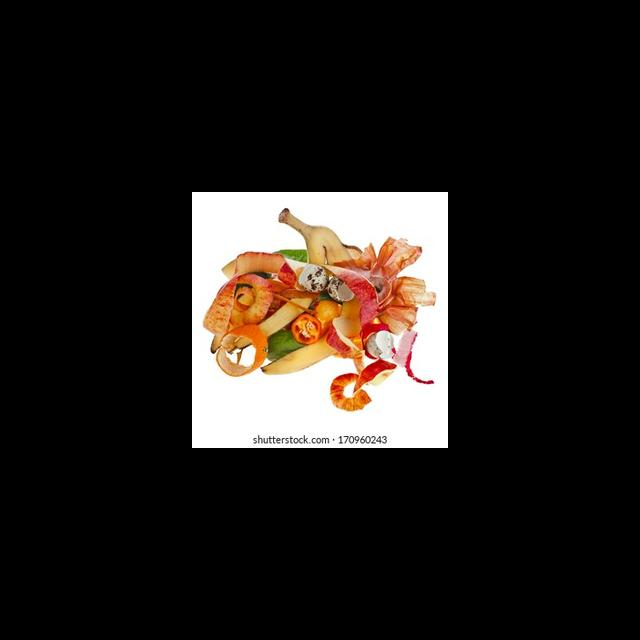food_waste: (234, 244, 397, 354), (279, 211, 364, 371), (370, 228, 448, 337), (213, 260, 282, 339), (324, 366, 383, 424), (214, 320, 268, 383), (297, 261, 340, 303), (360, 326, 405, 364)
